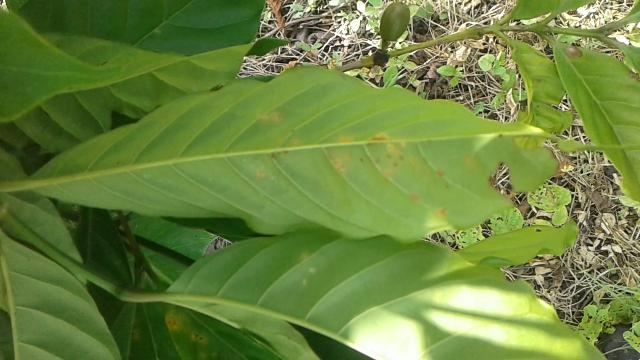rust_level_1: (28, 60, 640, 246)
